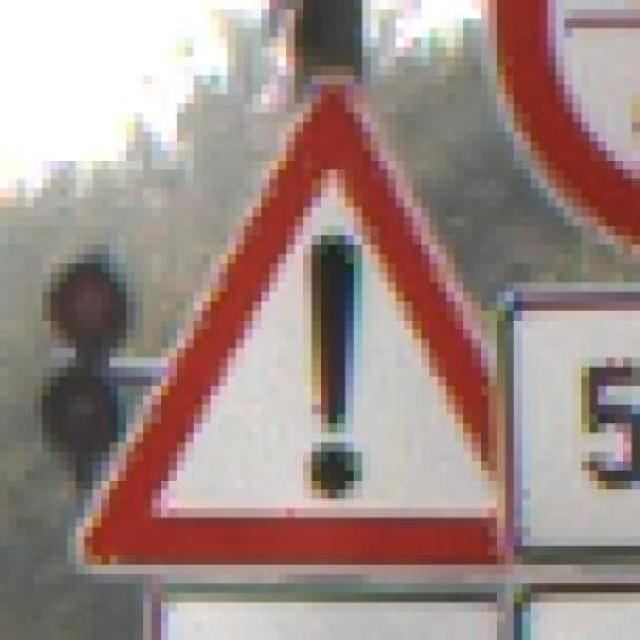Attention Please-: (67, 104, 539, 593)
